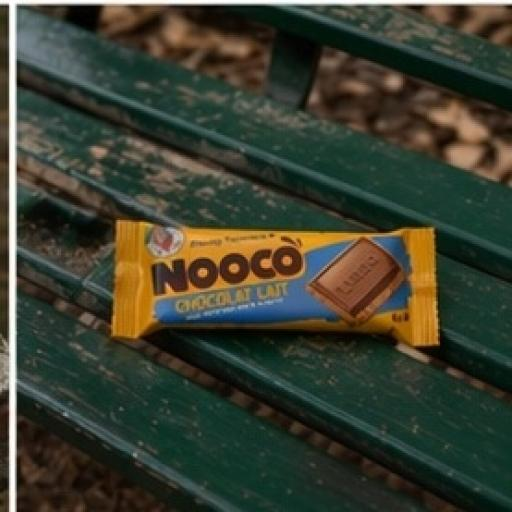nooco: (96, 180, 462, 393)
